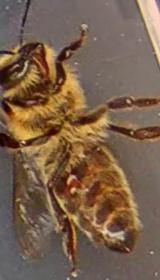varroa_mite: (56, 164, 98, 196)
